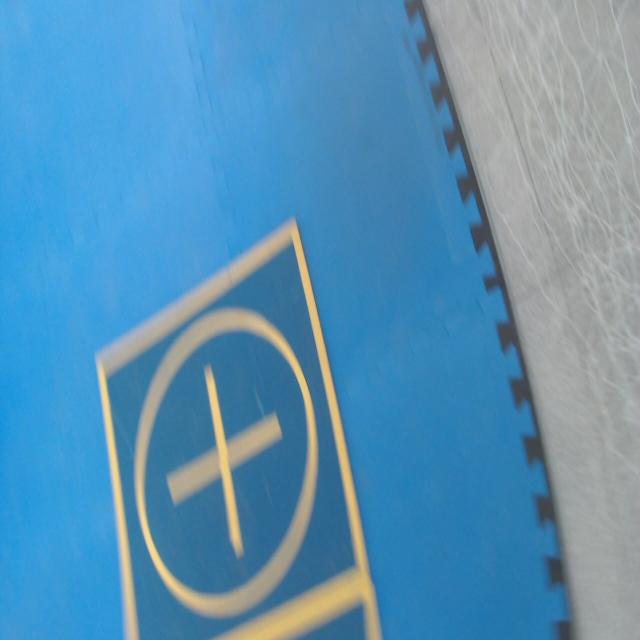base_pouso: (95, 215, 373, 639), (234, 579, 381, 639)
